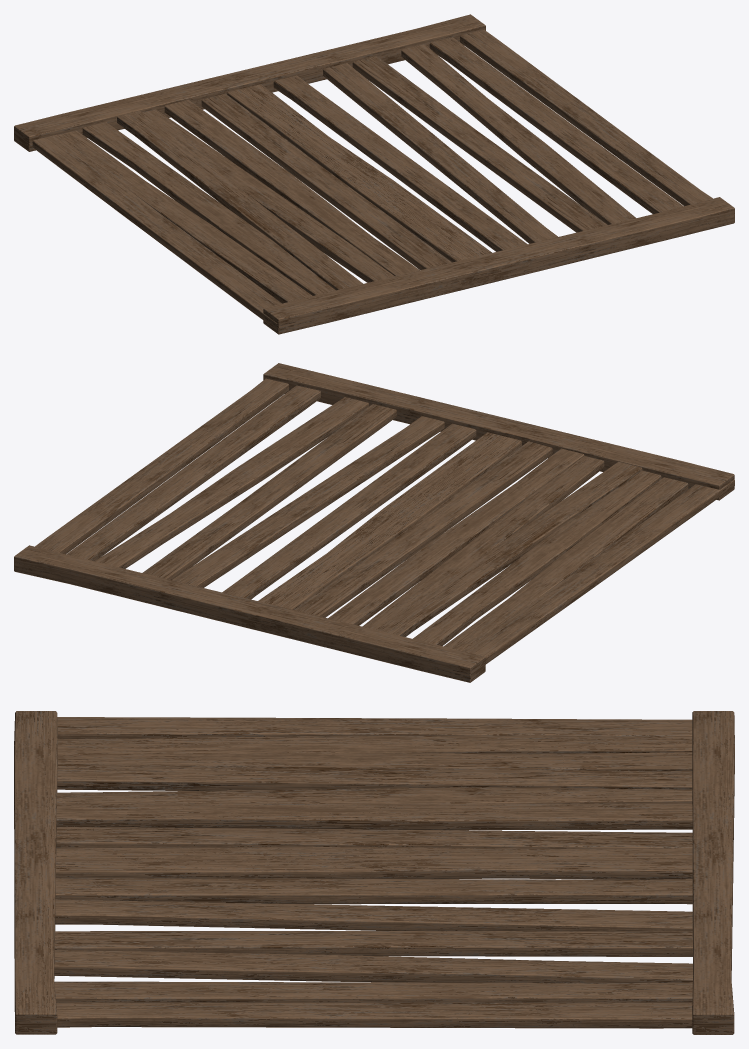
The model's file is SM_floor_module_wood_01.fbx.
3 renders of one model, top to bottom at view 1: azimuth 30°, elevation 25°; view 2: azimuth 150°, elevation 25°; view 3: azimuth 270°, elevation 25°, orthographic. The views are drawn at different scales.
Visible parts, largest first — view 1: SM_floor_module_wood_01; view 2: SM_floor_module_wood_01; view 3: SM_floor_module_wood_01.
Part boxes in pixels (x1,y1,x2,y2): SM_floor_module_wood_01: (14,14,734,334); SM_floor_module_wood_01: (14,363,734,682); SM_floor_module_wood_01: (14,711,734,1034).
Bounding box in the file's own units: 301 × 302 × 10.
1 material, 1 textured.
